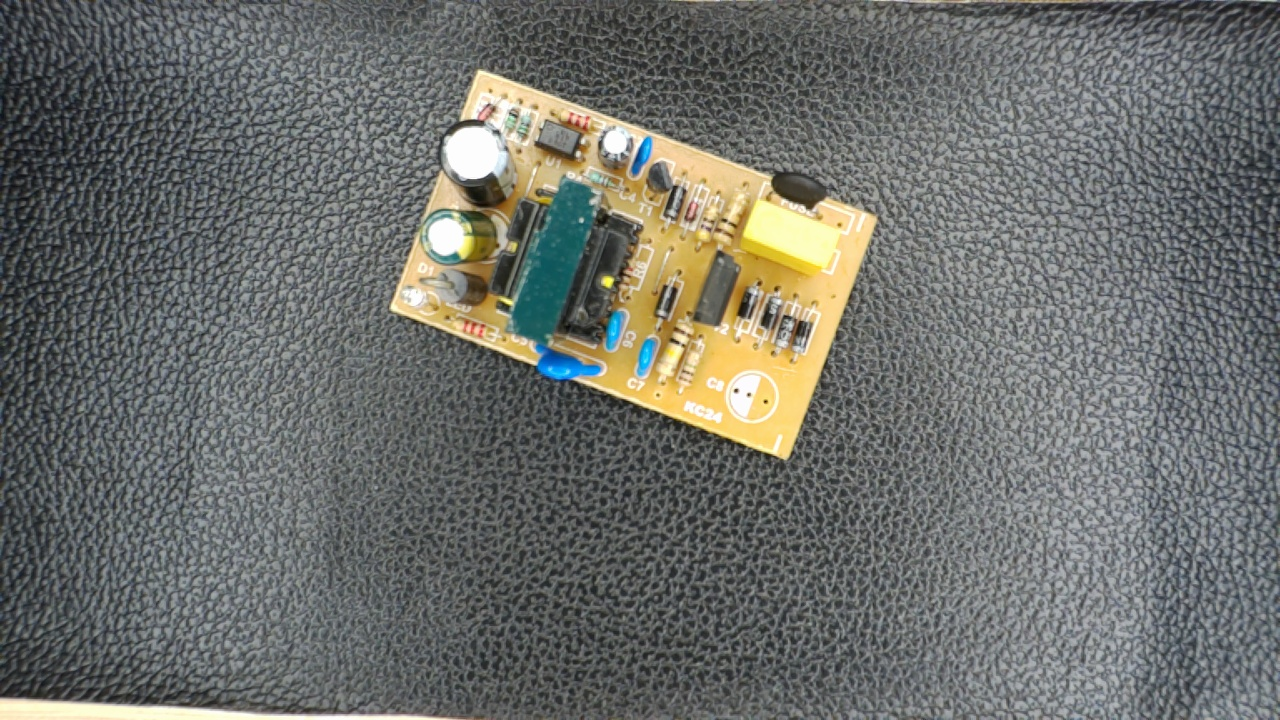fuse: (762, 165, 833, 221)
mov: (527, 330, 611, 386)
optocoupler: (531, 116, 593, 164)
